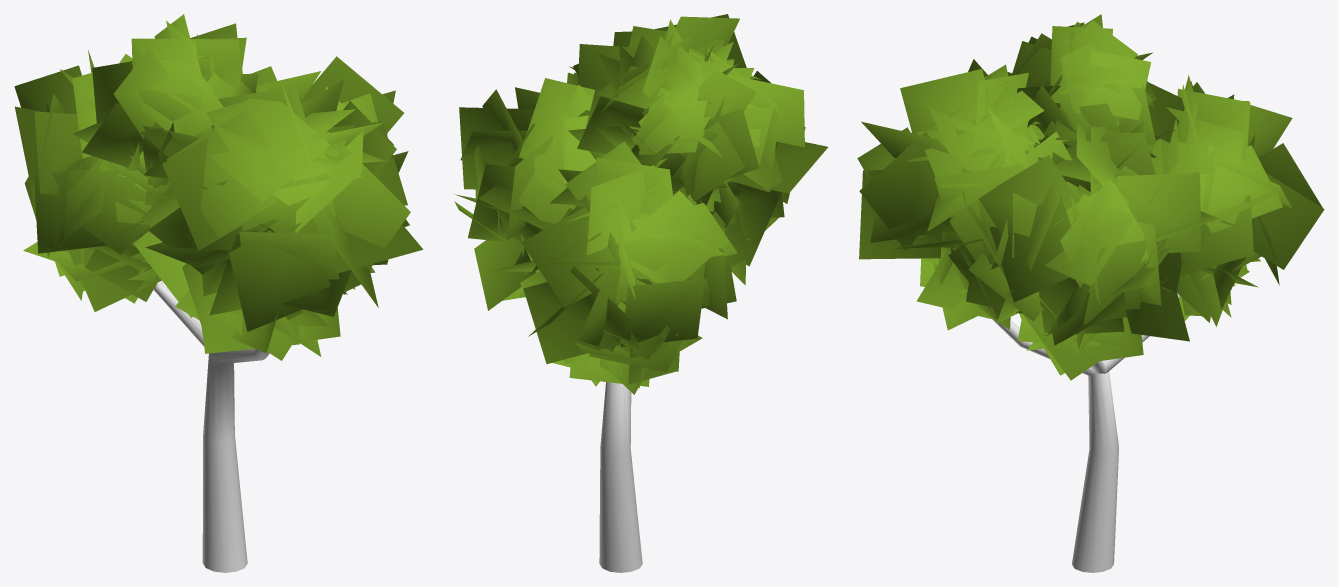
File: LeafyTree.glb
The picture shows the model from 3 angles, left to right: view 1: azimuth 30°, elevation 25°; view 2: azimuth 150°, elevation 25°; view 3: azimuth 270°, elevation 25°; orthographic projection. The views are drawn at different scales.
Parts seen in each view (by area): view 1: Leaves, Tree; view 2: Leaves, Tree; view 3: Leaves, Tree.
Boxes of the visible parts, box(x1,y1,x2,y2) form: Leaves: box(14, 14, 423, 360); Tree: box(153, 280, 269, 572); Leaves: box(454, 14, 827, 394); Tree: box(599, 382, 642, 572); Leaves: box(857, 14, 1324, 380); Tree: box(990, 293, 1179, 572).
Size of the model in its own units: 3.6 by 5.96 by 4.81.
